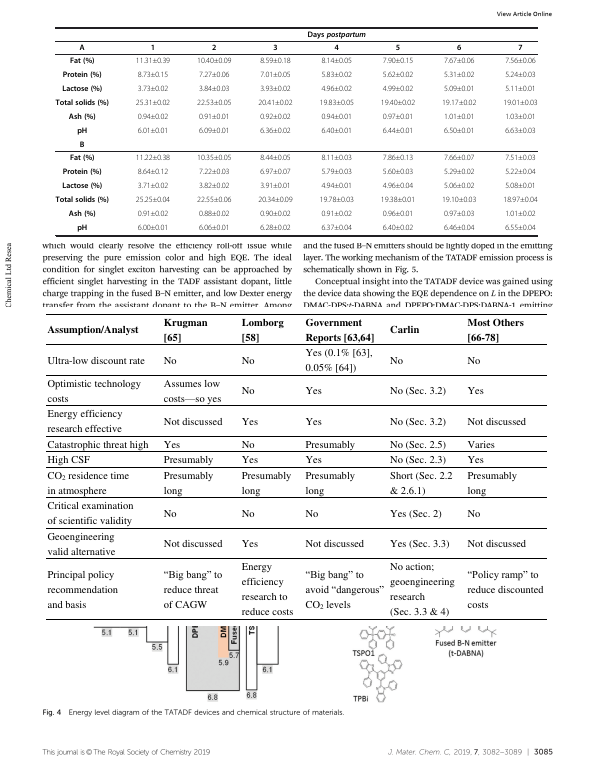borderless: (46, 312, 547, 619), (55, 26, 537, 235)
cell: (389, 560, 456, 619), (305, 566, 385, 612), (466, 566, 545, 611), (46, 568, 119, 611), (241, 560, 294, 619), (163, 566, 223, 611), (46, 377, 142, 405), (46, 499, 135, 528), (46, 469, 130, 497), (46, 407, 123, 436), (305, 315, 375, 344), (305, 346, 374, 375), (46, 530, 116, 558), (389, 469, 454, 497), (466, 315, 525, 344), (163, 377, 222, 406), (466, 469, 518, 497), (163, 469, 214, 497), (241, 469, 292, 497), (305, 469, 356, 497), (46, 438, 149, 451), (163, 315, 209, 344), (46, 323, 139, 337), (46, 354, 146, 367), (241, 315, 285, 344), (389, 537, 451, 551), (466, 537, 527, 551), (163, 537, 223, 551), (305, 537, 365, 551), (389, 384, 447, 398), (389, 453, 447, 467), (466, 415, 527, 428), (163, 415, 223, 428), (389, 415, 447, 428), (389, 438, 447, 451), (163, 453, 214, 467), (389, 507, 443, 520), (305, 438, 356, 451), (46, 453, 91, 467), (55, 98, 110, 108), (55, 195, 110, 205), (307, 30, 367, 39), (389, 323, 420, 337), (61, 84, 103, 94), (61, 181, 103, 191), (62, 70, 102, 80), (62, 167, 102, 177), (466, 438, 496, 451), (68, 112, 96, 122), (68, 209, 96, 219), (466, 384, 485, 398), (466, 453, 485, 467), (69, 56, 95, 66), (69, 153, 95, 163), (305, 384, 323, 398), (241, 453, 259, 467), (305, 453, 323, 467), (241, 537, 259, 551), (135, 57, 171, 64), (196, 57, 232, 64), (135, 99, 171, 106), (196, 99, 232, 106), (257, 99, 293, 106), (319, 99, 355, 106), (380, 99, 416, 106), (441, 99, 477, 106), (502, 99, 538, 106), (135, 154, 171, 161), (196, 154, 232, 161), (135, 196, 171, 203), (196, 196, 232, 203), (257, 196, 293, 203), (319, 196, 355, 203), (380, 196, 416, 203), (441, 196, 477, 203), (502, 196, 538, 203), (241, 415, 259, 428), (305, 415, 323, 428), (163, 438, 181, 451), (259, 57, 292, 64), (320, 57, 353, 64), (504, 57, 537, 64), (259, 71, 292, 78), (320, 71, 353, 78), (504, 71, 537, 78), (259, 85, 292, 92), (320, 85, 353, 92), (504, 85, 537, 92), (259, 113, 292, 120), (320, 113, 353, 120), (504, 113, 537, 120), (259, 127, 292, 134), (320, 127, 353, 134), (504, 127, 537, 134), (259, 154, 292, 161), (320, 154, 353, 161), (504, 154, 537, 161), (259, 168, 292, 175), (320, 168, 353, 175), (504, 168, 537, 175), (259, 182, 292, 189), (320, 182, 353, 189), (504, 182, 537, 189), (259, 210, 292, 217), (320, 210, 353, 217), (504, 210, 537, 217), (259, 224, 292, 231), (320, 224, 353, 231), (504, 224, 537, 231), (382, 57, 414, 64), (443, 57, 475, 64), (137, 71, 169, 78), (198, 71, 230, 78), (382, 71, 414, 78), (443, 71, 475, 78), (137, 85, 169, 92), (198, 85, 230, 92), (382, 85, 414, 92), (443, 85, 475, 92), (137, 113, 169, 120), (198, 113, 230, 120), (382, 113, 414, 120), (443, 113, 475, 120), (137, 127, 169, 134), (198, 127, 230, 134), (382, 127, 414, 134), (443, 127, 475, 134), (382, 154, 414, 161), (443, 154, 475, 161), (137, 168, 169, 175), (198, 168, 230, 175), (382, 168, 414, 175), (443, 168, 475, 175), (137, 182, 169, 189), (198, 182, 230, 189), (382, 182, 414, 189), (443, 182, 475, 189), (137, 210, 169, 217), (198, 210, 230, 217), (382, 210, 414, 217), (443, 210, 475, 217), (137, 224, 169, 231), (198, 224, 230, 231), (382, 224, 414, 231), (443, 224, 475, 231), (241, 384, 256, 398), (163, 354, 178, 367), (241, 354, 256, 367), (389, 354, 404, 367), (466, 354, 481, 367), (241, 438, 256, 451), (163, 507, 178, 520), (241, 507, 256, 520), (466, 507, 481, 520), (305, 507, 319, 520), (76, 126, 88, 136), (76, 223, 88, 233), (79, 43, 86, 53), (333, 43, 340, 53), (150, 43, 156, 53), (211, 43, 217, 53), (272, 43, 278, 53), (395, 43, 401, 53), (456, 43, 462, 53), (517, 43, 523, 53), (79, 140, 85, 150)
